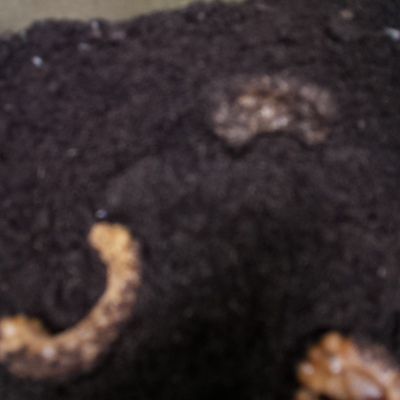eggs: (2, 217, 151, 392), (281, 323, 398, 400)
